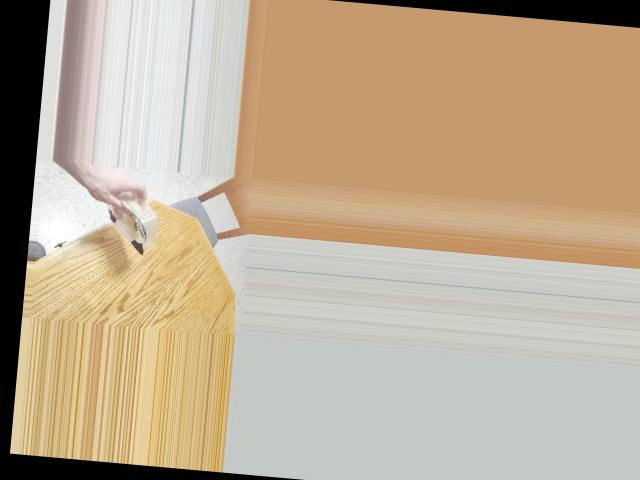cheese: (83, 185, 173, 253)
